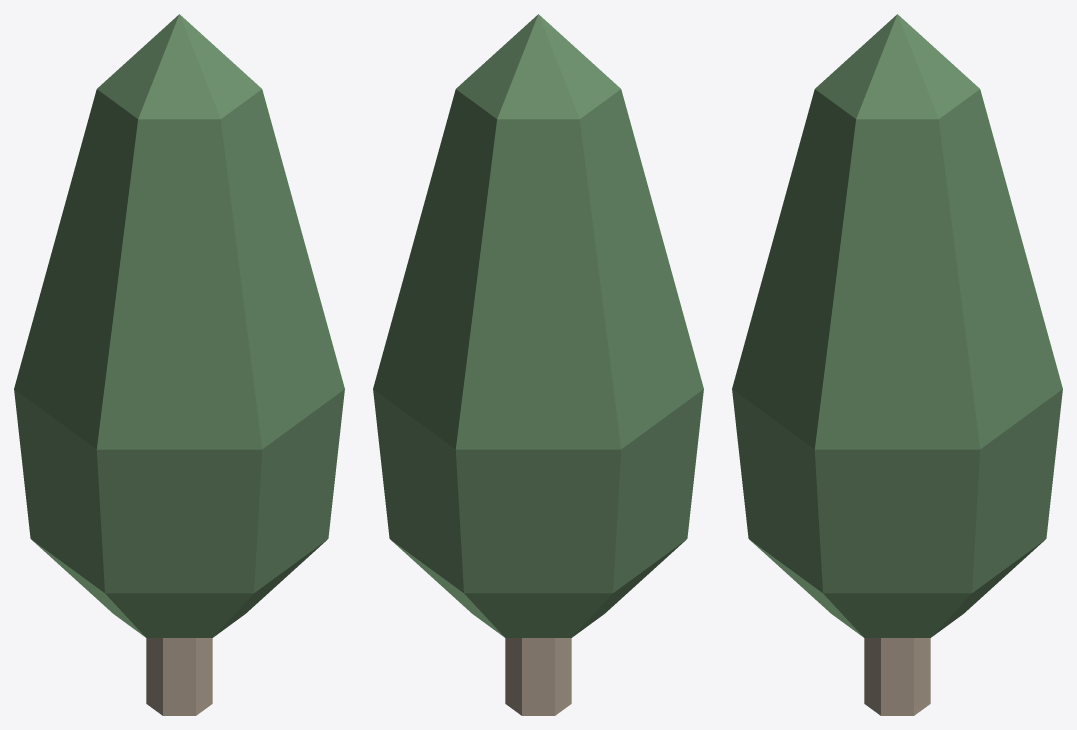
Rendered from Hilly_Prop_Tree_Cedar_2.glb.
3 renders of one model, left to right at view 1: azimuth 30°, elevation 25°; view 2: azimuth 150°, elevation 25°; view 3: azimuth 270°, elevation 25°, orthographic.
Visible parts, largest first — view 1: Hilly_Prop_Tree_Cedar_2; view 2: Hilly_Prop_Tree_Cedar_2; view 3: Hilly_Prop_Tree_Cedar_2.
Part boxes in pixels (left/top/right/bottom): Hilly_Prop_Tree_Cedar_2: left=14, top=14, right=344, bottom=715; Hilly_Prop_Tree_Cedar_2: left=373, top=14, right=703, bottom=715; Hilly_Prop_Tree_Cedar_2: left=732, top=14, right=1062, bottom=715.
Size of the model in its own units: 0.291 by 0.7728 by 0.336.
